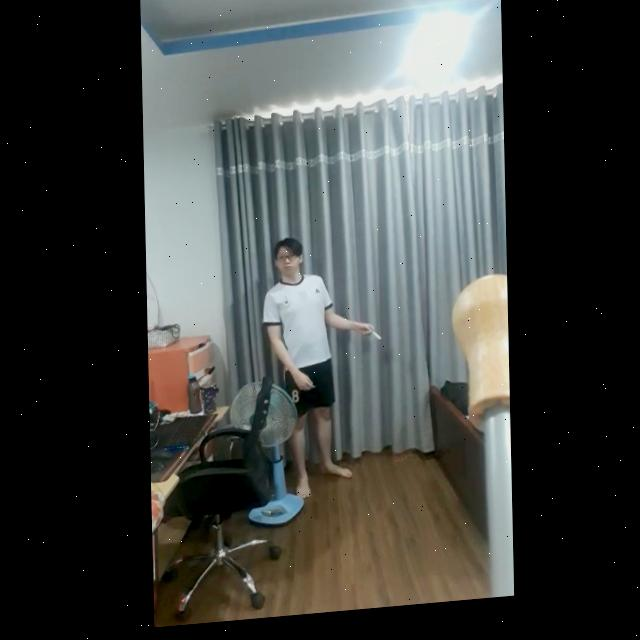cigarette: (370, 336, 381, 348)
